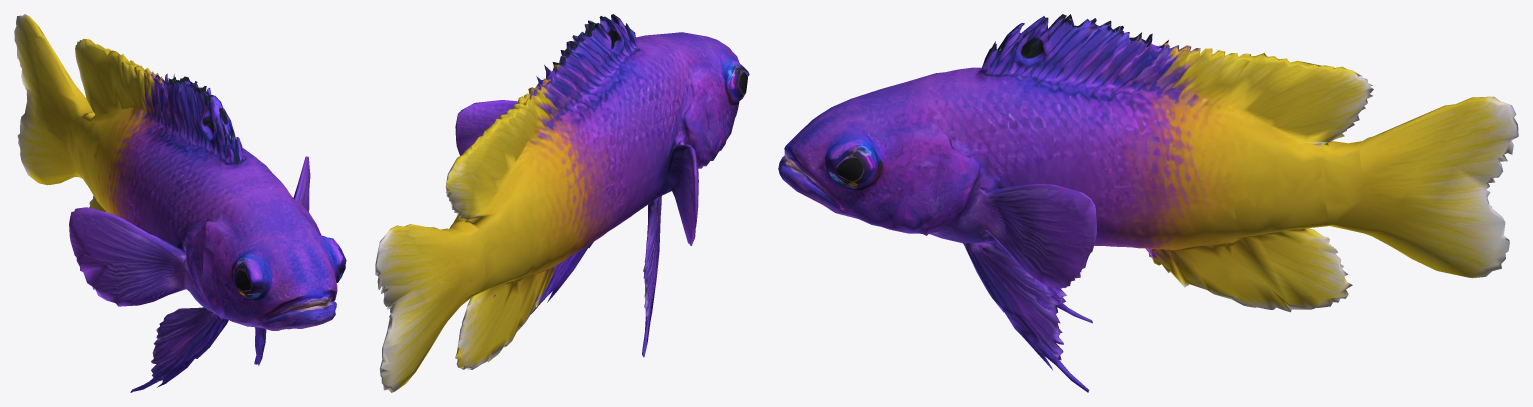
Rendered from gramma.glb.
The picture shows the model from 3 angles, left to right: view 1: azimuth 30°, elevation 25°; view 2: azimuth 150°, elevation 25°; view 3: azimuth 270°, elevation 25°; orthographic projection. The views are drawn at different scales.
Parts seen in each view (by area): view 1: tripo_node_8e875c8b-873f-473a-b14a-e61bd43e7676; view 2: tripo_node_8e875c8b-873f-473a-b14a-e61bd43e7676; view 3: tripo_node_8e875c8b-873f-473a-b14a-e61bd43e7676.
Part boxes in pixels (x1,y1,x2,y2): tripo_node_8e875c8b-873f-473a-b14a-e61bd43e7676: [14, 14, 346, 392]; tripo_node_8e875c8b-873f-473a-b14a-e61bd43e7676: [375, 14, 749, 392]; tripo_node_8e875c8b-873f-473a-b14a-e61bd43e7676: [778, 14, 1518, 392].
Bounding box in the file's own units: 0.4198 × 0.5081 × 0.9996.
1 material, 1 textured.
